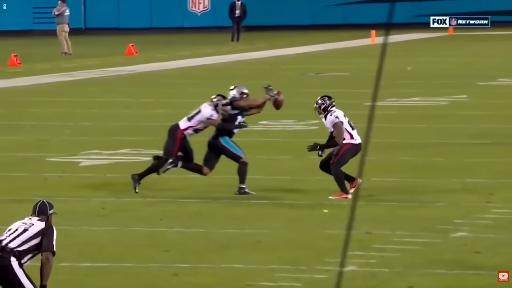Helmet: (315, 96, 335, 116), (211, 95, 230, 114), (230, 86, 249, 98)
Jersey: (323, 109, 361, 143), (179, 103, 218, 136), (222, 96, 246, 124), (221, 110, 245, 124)
Player: (131, 95, 246, 193), (169, 128, 253, 194), (308, 96, 361, 198)
